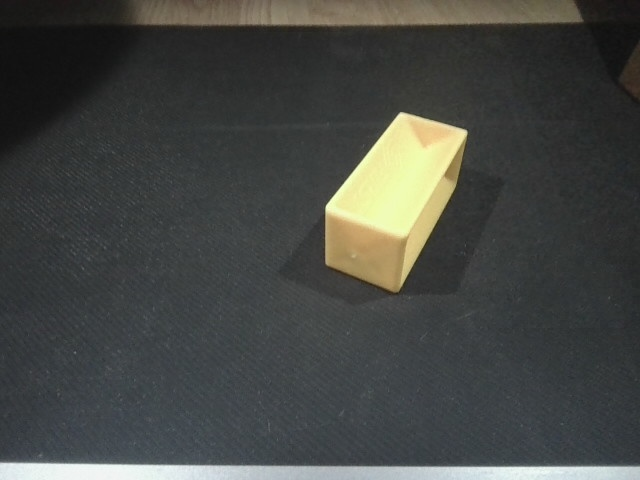YellowSample: (317, 108, 479, 299)
